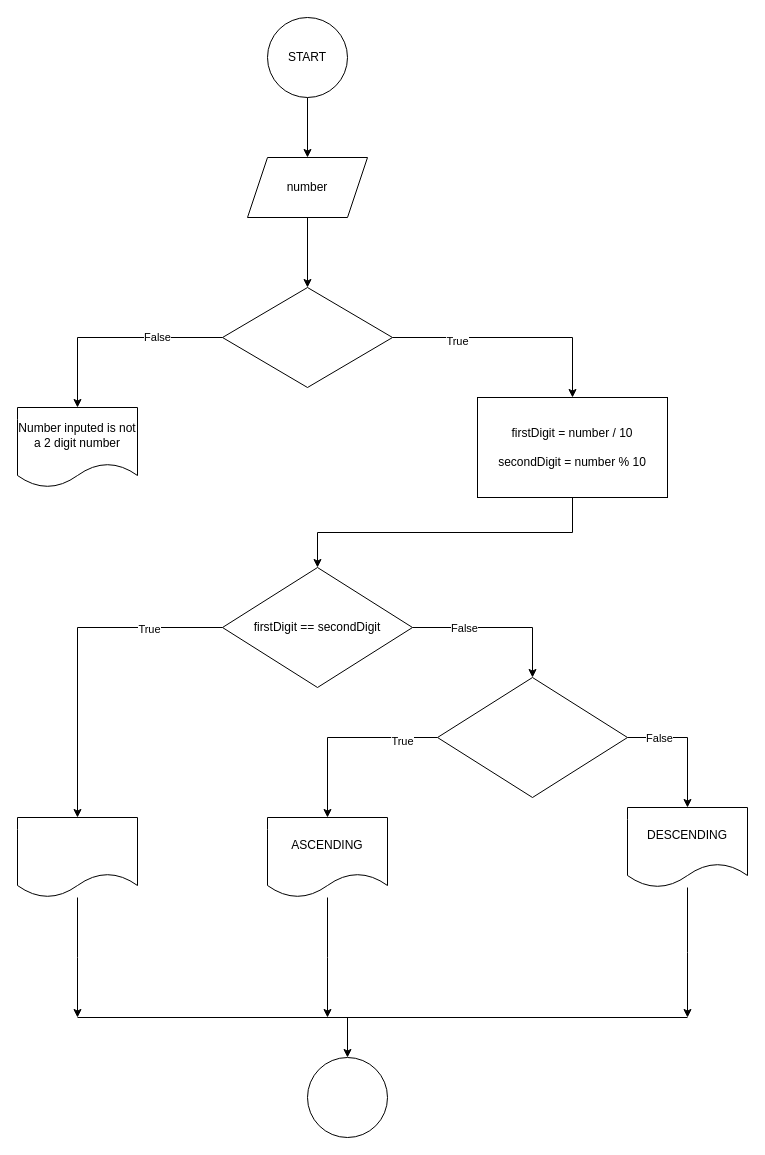
This 765x1155 diagram has some shape labels left out. The centre of each missing label's shape, as x and y in pixels:
"END" belongs at pixel 347 1097.
"firstDigit < secondDigit" belongs at pixel 532 737.
"MONOTONOUS" belongs at pixel 77 857.
"number > 9 < 100" belongs at pixel 307 337.
